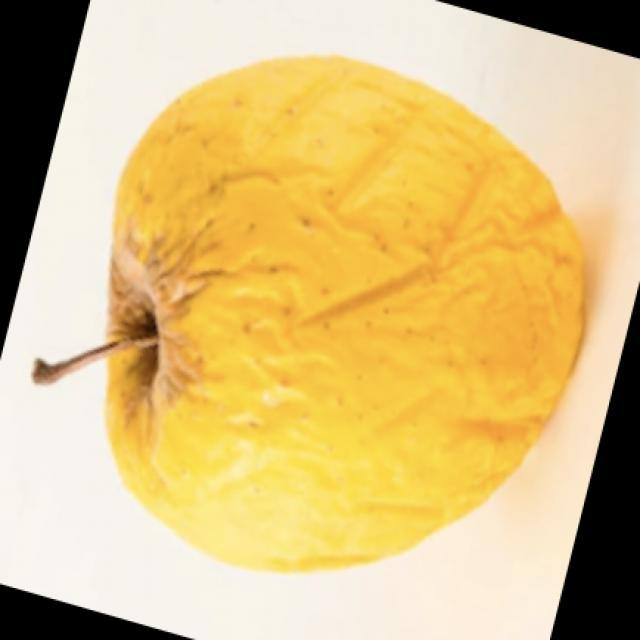Rotten: (93, 62, 567, 555)
